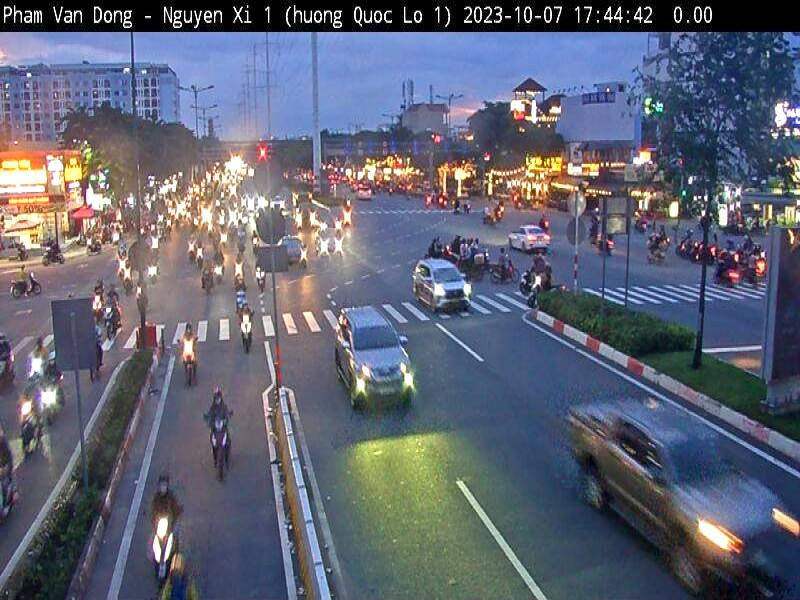car: (560, 380, 796, 590), (330, 289, 417, 410), (416, 255, 476, 314), (504, 218, 552, 255)
